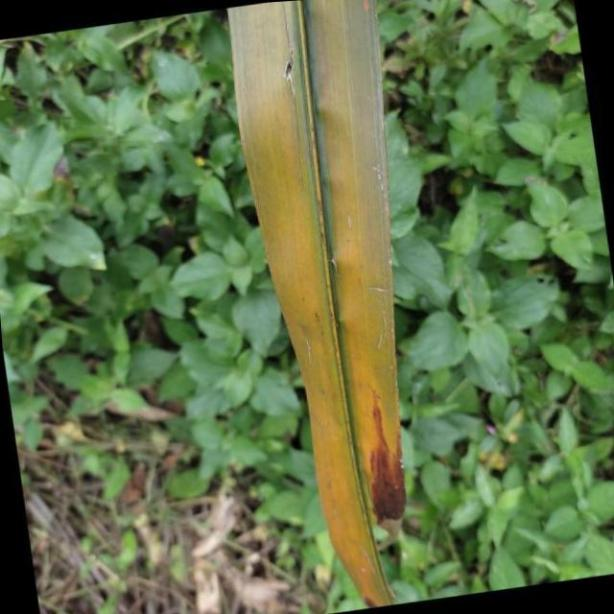Megnesium: (227, 0, 411, 614)
